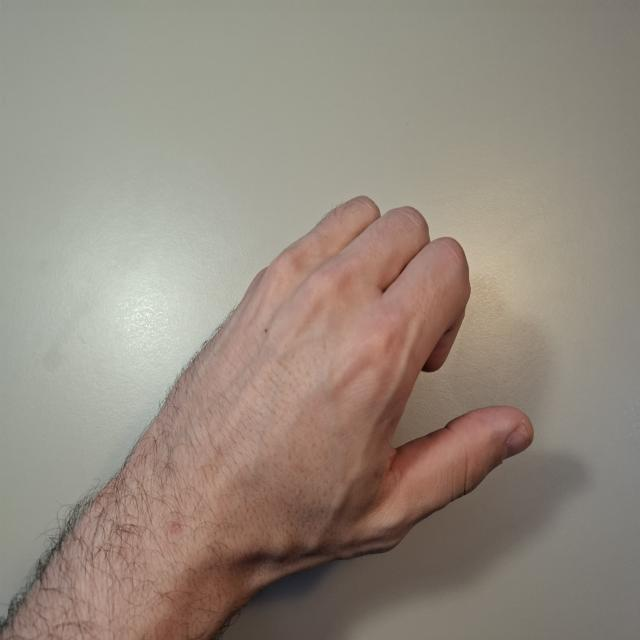glove_off: (151, 193, 536, 567)
